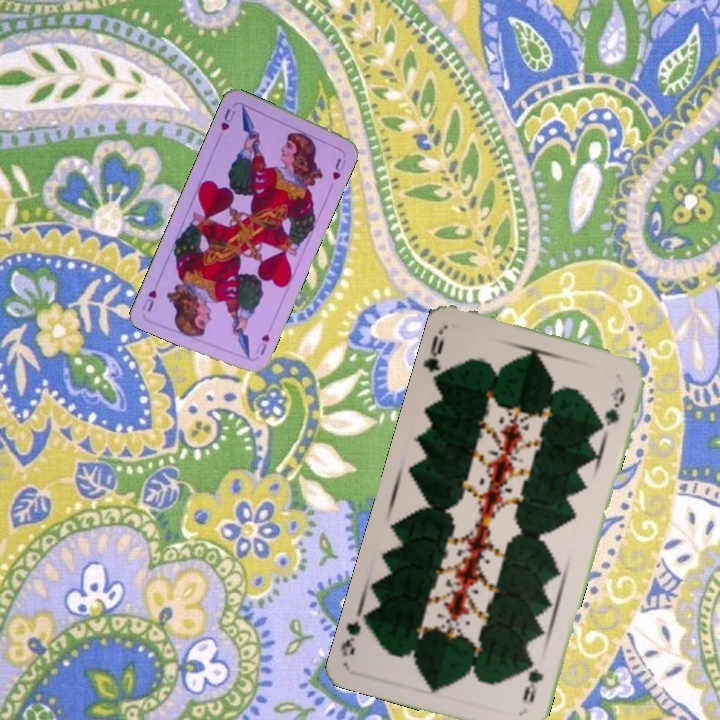G9: (420, 325, 449, 386), (518, 657, 546, 705)
HU: (217, 104, 238, 134), (251, 330, 272, 357)
